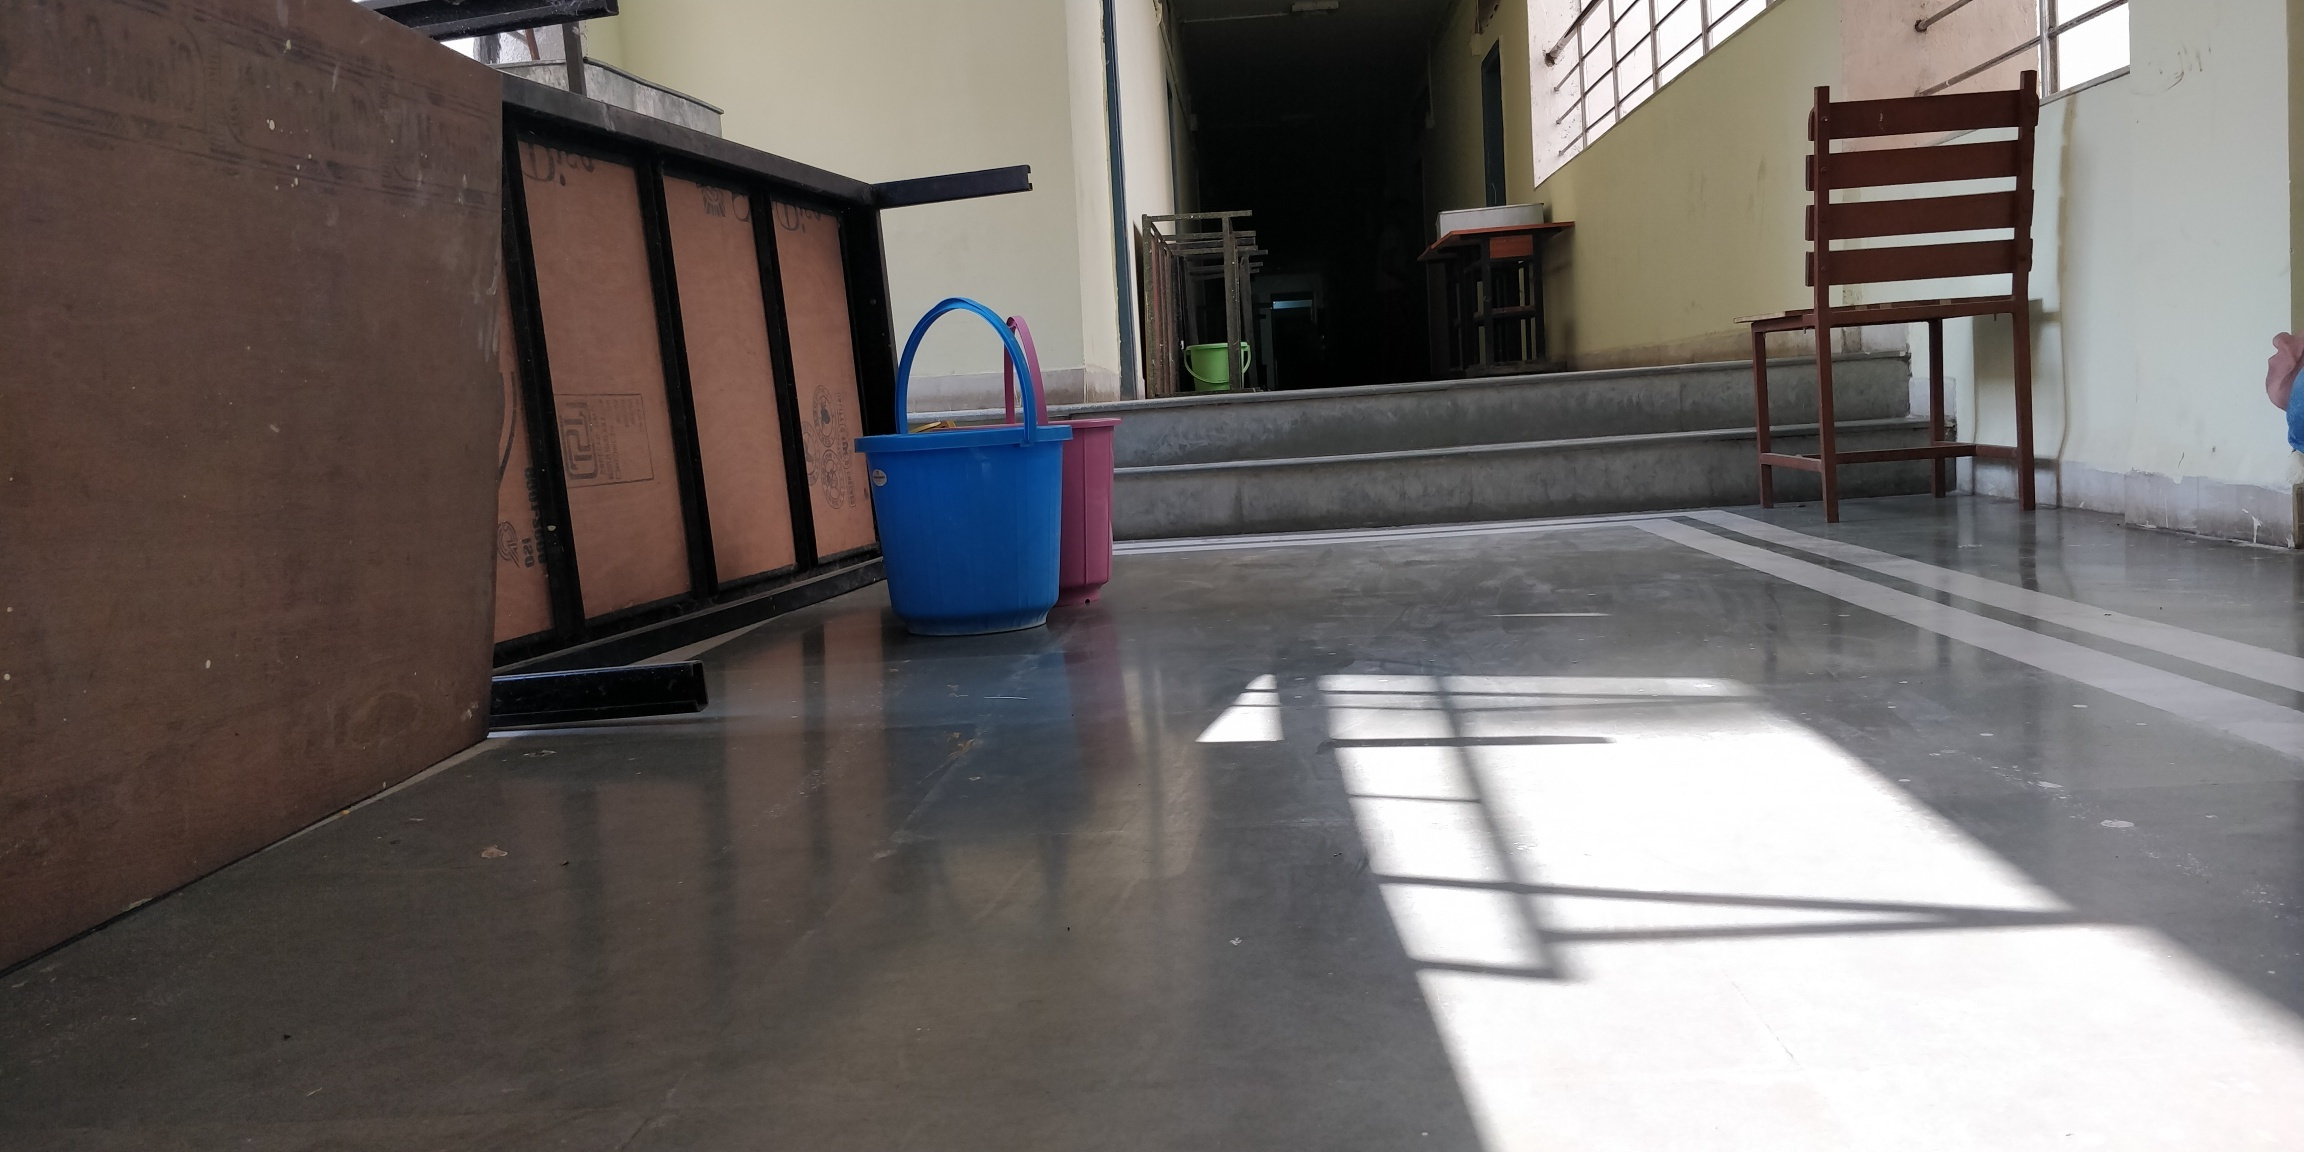stairs_up: (1090, 378, 1828, 523)
